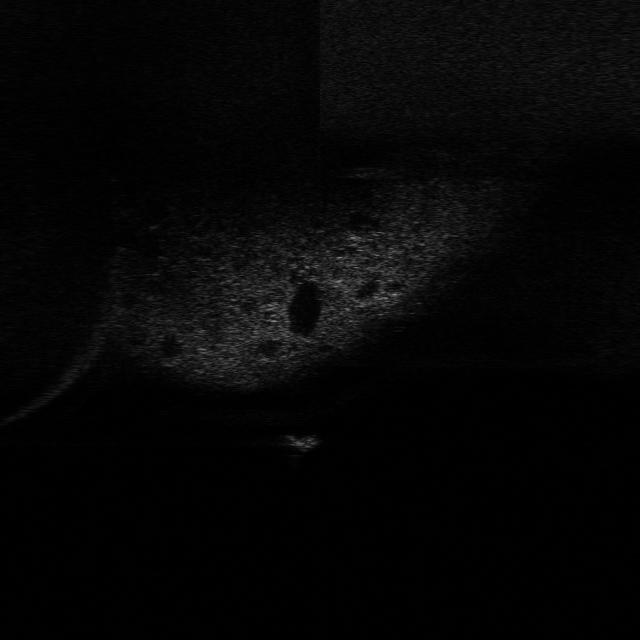cube: (273, 429, 323, 455)
